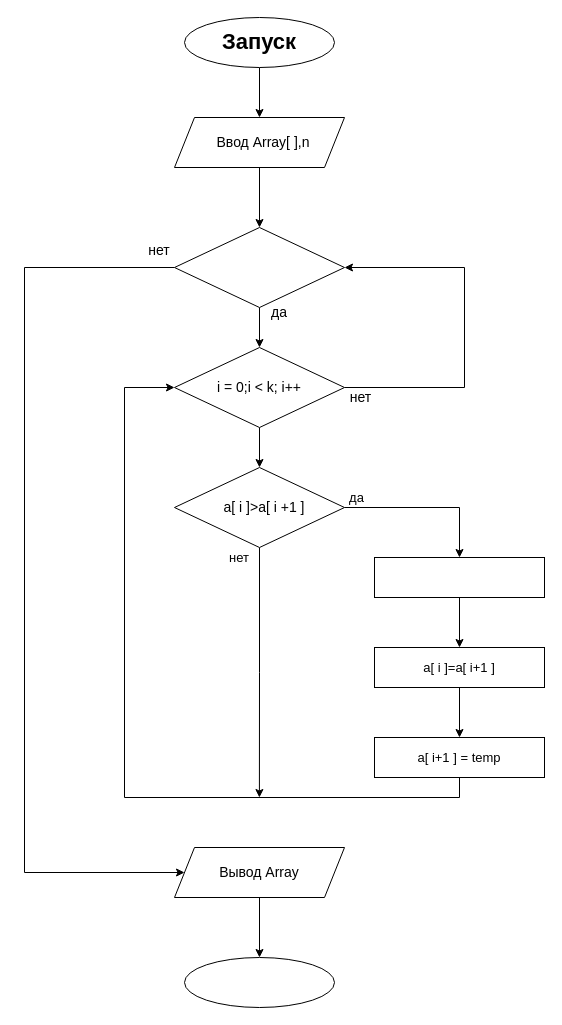
This 562x1025 diagram has some shape labels left out. The centre of each missing label's shape, as x and y in pixels:
"k = n-1;k >0;k--" goes at point (259, 267).
"temp=a[ i ]" goes at point (459, 577).
"Конец" goes at point (259, 982).
